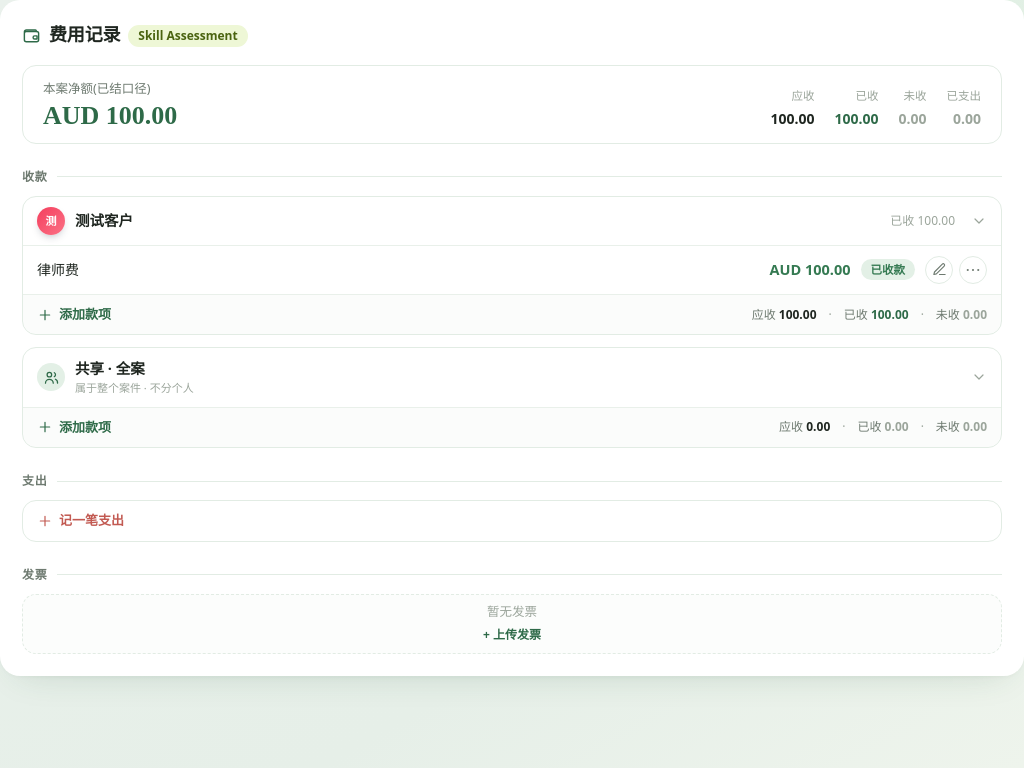
CaseFeesCard（费用记录 · 极简行 + 悬停显操作 + ⋯ 菜单） › 已收款行 ⋯ 含：收款明细 / 修改款项 / 改回待付（撤销收款）/ 删除款项
This screenshot has width=1024, height=768.
Expected: the text "本案净额(已结口径)" is shown, [43,80,150,97]
Click the button named "款项操作". click: point(973, 270)
box: [959,256,987,284]
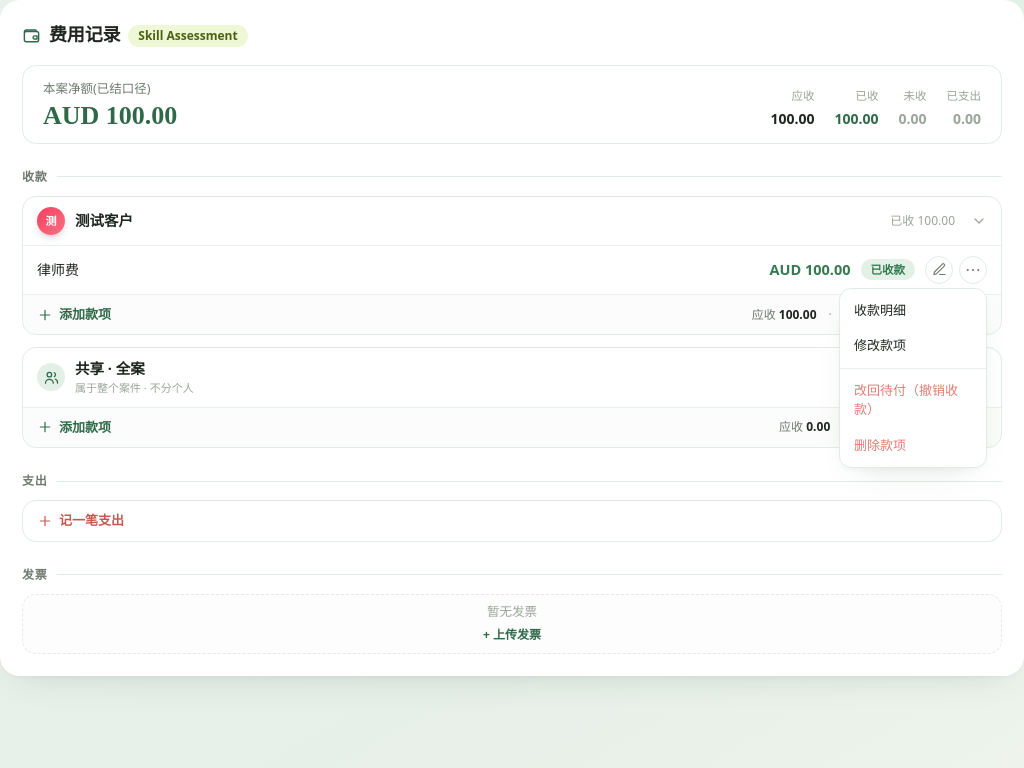
Now the menu items read "收款明细", "修改款项", "改回待付（撤销收款）", "删除款项", in this order, box [840,293,986,328]; [840,328,986,364]; [840,373,986,428]; [840,428,986,463]
